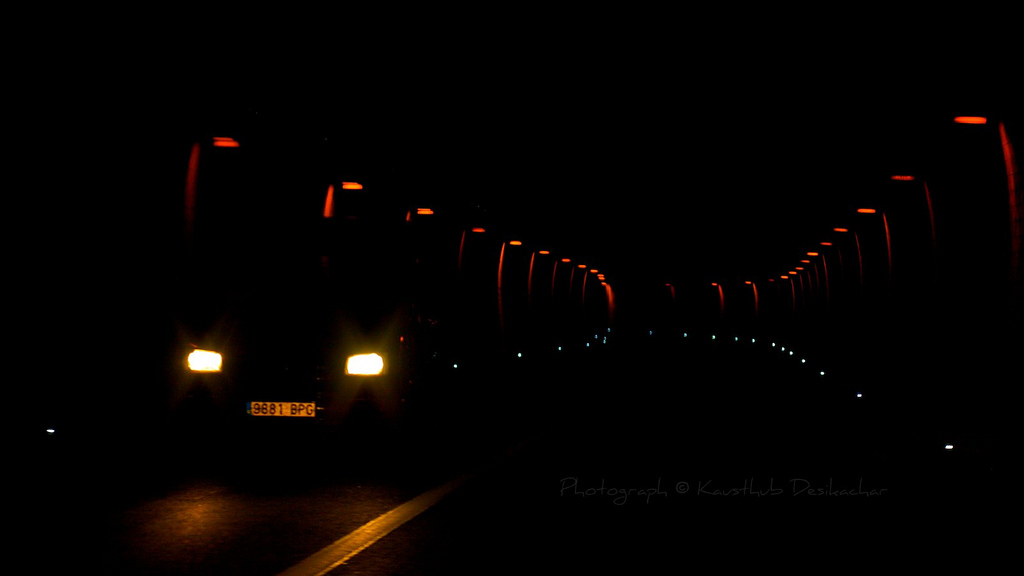car: (176, 258, 463, 444)
